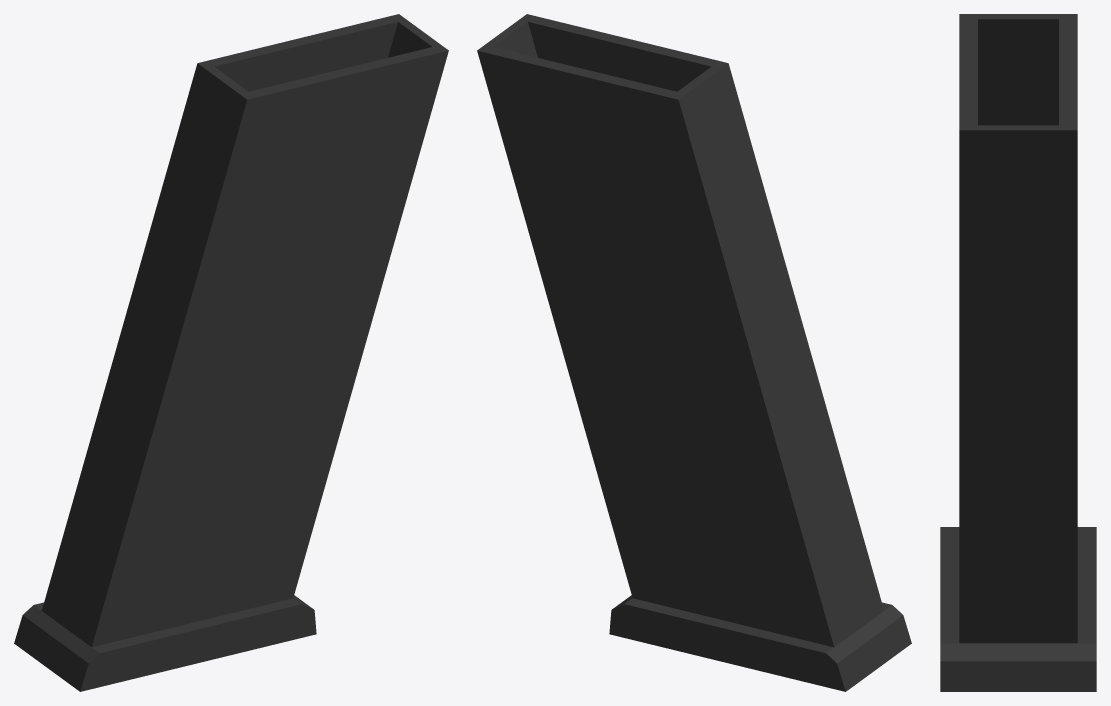
The model's file is SM_Weapon_01_4.fbx.
3 renders of one model, left to right at view 1: azimuth 30°, elevation 25°; view 2: azimuth 150°, elevation 25°; view 3: azimuth 270°, elevation 25°, orthographic. The views are drawn at different scales.
Parts seen in each view (by area): view 1: SM_Weapon_01_4; view 2: SM_Weapon_01_4; view 3: SM_Weapon_01_4.
Part boxes in pixels (x1=…): SM_Weapon_01_4: x1=14, y1=14, x2=448, y2=691; SM_Weapon_01_4: x1=477, y1=14, x2=911, y2=691; SM_Weapon_01_4: x1=940, y1=14, x2=1096, y2=691.
Size of the model in its own units: 0.0795 by 0.1096 by 0.0242.
Materials: 1 (1 with a texture image).
